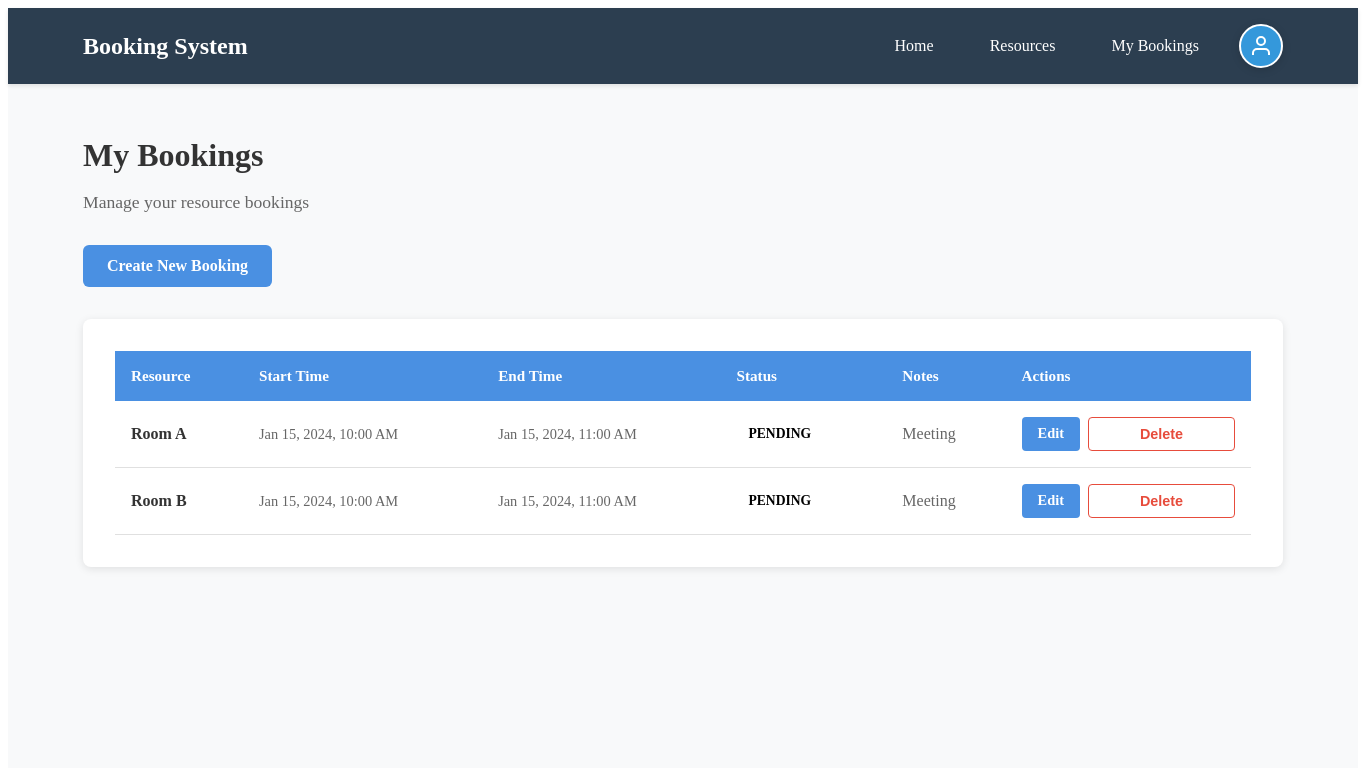
Test: BookingsPage › Delete Booking Functionality › handles deletion of multiple bookings independently
expect the text "Room A" is shown: met, box x1=115 y1=401 x2=243 y2=468
expect the text "Room B" is shown: met, box x1=115 y1=468 x2=243 y2=534
Click the button with aria-label "delete booking". click: click(1162, 434)
box: x1=1088 y1=417 x2=1235 y2=451
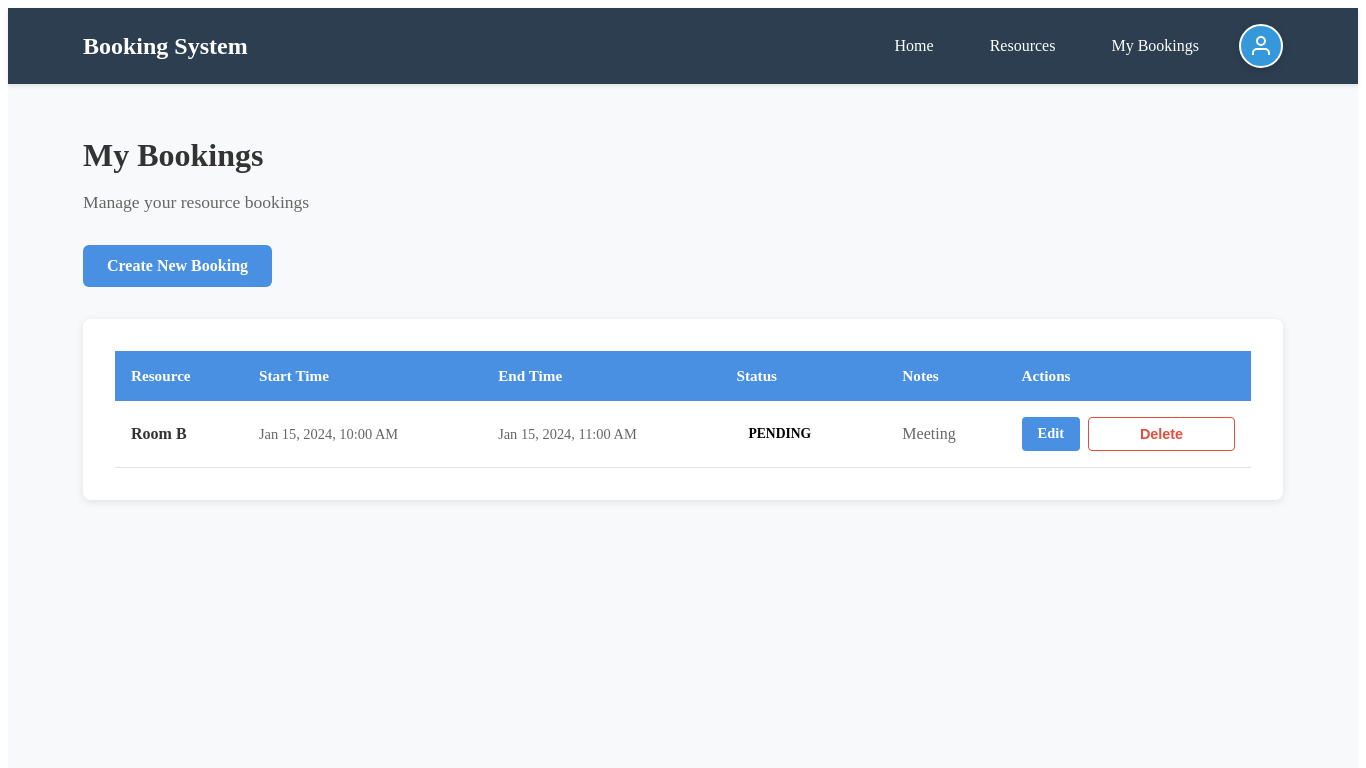
expect the text "Room B" is shown: met, box x1=115 y1=401 x2=243 y2=468
expect the text "Room A" is gone: met
